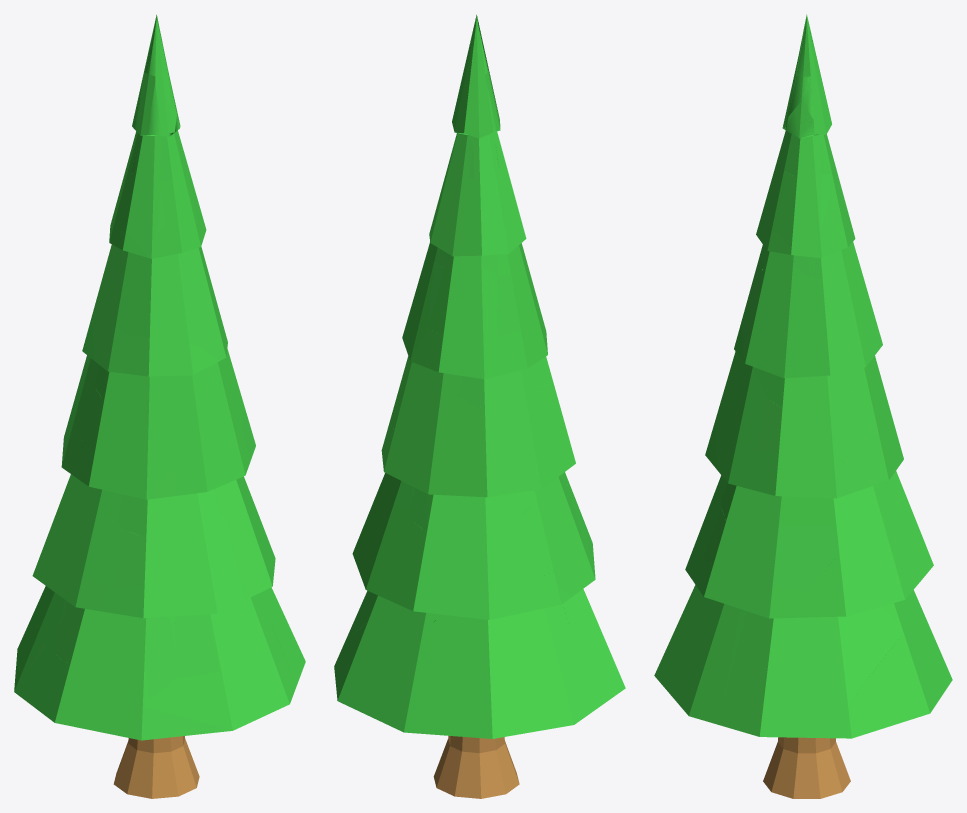
File: kırılankçam.fbx
3 renders of one model, left to right at view 1: azimuth 30°, elevation 25°; view 2: azimuth 150°, elevation 25°; view 3: azimuth 270°, elevation 25°, orthographic.
Visible parts, largest first — view 1: Cylinder, Cylinder_cell.034, Cylinder_cell.006, Cylinder_cell.076, Cylinder_cell.098, Cylinder_cell.100, Cylinder_cell.045, Cylinder_cell.031, Cylinder_cell.036, Cylinder_cell.057, Cylinder_cell.013, Cylinder_cell.033 (+21 smaller); view 2: Cylinder, Cylinder_cell.109, Cylinder_cell.039, Cylinder_cell.043, Cylinder_cell.010, Cylinder_cell.050, Cylinder_cell.033, Cylinder_cell.021, Cylinder_cell.110, Cylinder_cell.129, Cylinder_cell.088, Cylinder_cell.009 (+13 smaller); view 3: Cylinder, Cylinder_cell.050, Cylinder_cell.025, Cylinder_cell.120, Cylinder_cell.077, Cylinder_cell.060, Cylinder_cell.004, Cylinder_cell.081, Cylinder_cell.008, Cylinder_cell.106, Cylinder_cell.010, Cylinder_cell.002 (+18 smaller).
Boxes of the visible parts, x1=… form: Cylinder: x1=14, y1=14, x2=304, y2=798; Cylinder_cell.034: x1=143, y1=671, x2=232, y2=730; Cylinder_cell.006: x1=148, y1=380, x2=201, y2=457; Cylinder_cell.076: x1=180, y1=268, x2=217, y2=349; Cylinder_cell.098: x1=128, y1=336, x2=206, y2=376; Cylinder_cell.100: x1=174, y1=614, x2=220, y2=677; Cylinder_cell.045: x1=116, y1=268, x2=151, y2=337; Cylinder_cell.031: x1=82, y1=518, x2=122, y2=587; Cylinder_cell.036: x1=173, y1=449, x2=226, y2=495; Cylinder_cell.057: x1=202, y1=514, x2=238, y2=581; Cylinder_cell.013: x1=112, y1=529, x2=146, y2=588; Cylinder_cell.033: x1=34, y1=653, x2=69, y2=722; Cylinder: x1=337, y1=14, x2=602, y2=798; Cylinder_cell.109: x1=414, y1=614, x2=491, y2=734; Cylinder_cell.039: x1=454, y1=653, x2=599, y2=738; Cylinder_cell.043: x1=516, y1=501, x2=553, y2=587; Cylinder_cell.010: x1=388, y1=521, x2=440, y2=633; Cylinder_cell.050: x1=334, y1=623, x2=436, y2=734; Cylinder_cell.033: x1=581, y1=635, x2=625, y2=706; Cylinder_cell.021: x1=528, y1=383, x2=564, y2=455; Cylinder_cell.110: x1=563, y1=589, x2=602, y2=651; Cylinder_cell.129: x1=485, y1=491, x2=536, y2=527; Cylinder_cell.088: x1=461, y1=178, x2=481, y2=252; Cylinder_cell.009: x1=542, y1=424, x2=575, y2=488; Cylinder: x1=654, y1=14, x2=952, y2=798; Cylinder_cell.050: x1=848, y1=633, x2=929, y2=738; Cylinder_cell.025: x1=772, y1=525, x2=839, y2=592; Cylinder_cell.120: x1=839, y1=607, x2=903, y2=703; Cylinder_cell.077: x1=719, y1=611, x2=759, y2=736; Cylinder_cell.060: x1=831, y1=372, x2=879, y2=463; Cylinder_cell.004: x1=834, y1=439, x2=888, y2=498; Cylinder_cell.081: x1=807, y1=554, x2=845, y2=617; Cylinder_cell.008: x1=743, y1=330, x2=806, y2=378; Cylinder_cell.106: x1=778, y1=496, x2=836, y2=526; Cylinder_cell.010: x1=895, y1=496, x2=933, y2=583; Cylinder_cell.002: x1=737, y1=368, x2=767, y2=450.
Bounding box in the file's own units: 453 × 1322 × 466.
